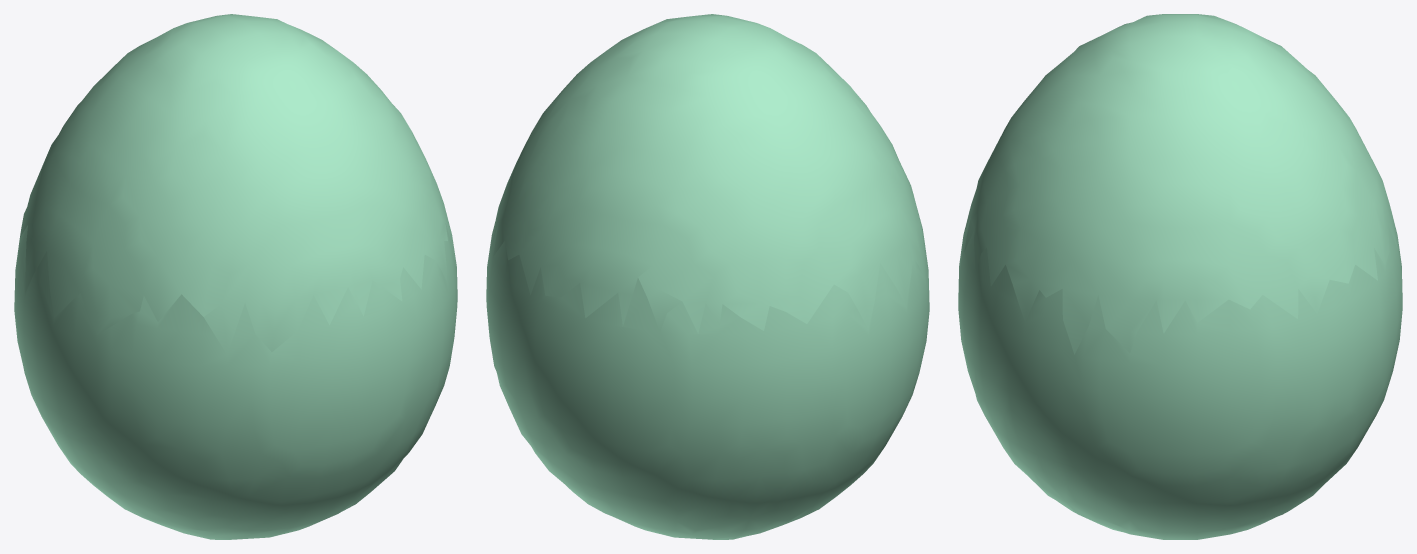
File: EGG_open.fbx
The picture shows the model from 3 angles, left to right: view 1: azimuth 30°, elevation 25°; view 2: azimuth 150°, elevation 25°; view 3: azimuth 270°, elevation 25°; orthographic projection.
Visible parts, largest first — view 1: Egg_1_Top, Egg_2_Bottom; view 2: Egg_1_Top, Egg_2_Bottom; view 3: Egg_1_Top, Egg_2_Bottom.
Part boxes in pixels (box(x1,y1,x2,y2)): Egg_1_Top: box(20, 14, 456, 354); Egg_2_Bottom: box(14, 223, 457, 539); Egg_1_Top: box(492, 14, 925, 333); Egg_2_Bottom: box(486, 204, 929, 539); Egg_1_Top: box(963, 14, 1397, 354); Egg_2_Bottom: box(958, 207, 1402, 539).
Size of the model in its own units: 198 by 241 by 198.
